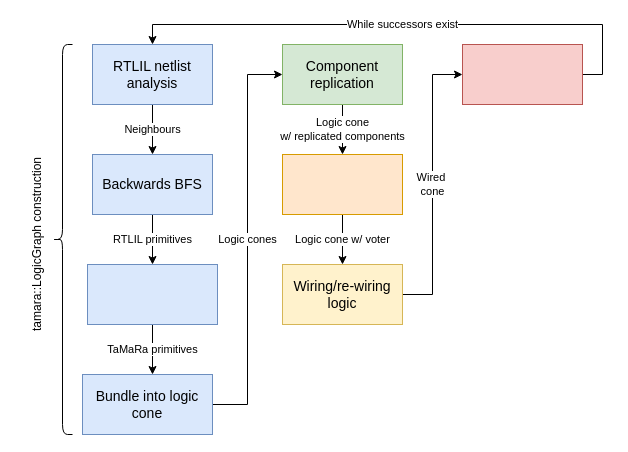
Image size: 628x452. Some labels were removed from this diagram. Here are the shapes that lost their labels. From the top down, the centre of each, then its label:
At (522,74): "Build successor logic cones".
At (342,184): "Voter insertion".
At (152,294): "Lift RTLIL to TaMaRa primitives".
